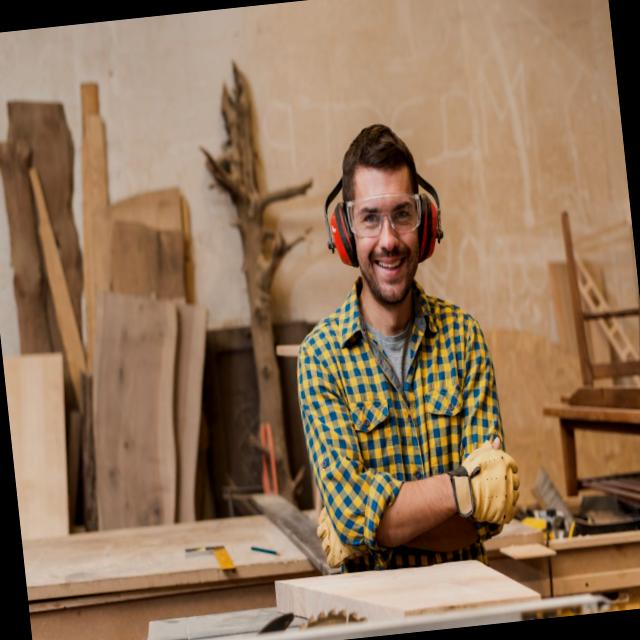goggles: (341, 190, 426, 242)
no-helmet: (338, 111, 408, 182)
no-vest: (298, 268, 506, 530)
